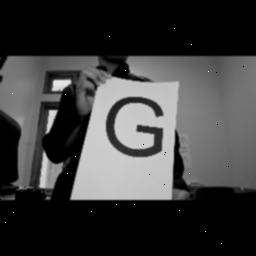g: (104, 94, 168, 162)
